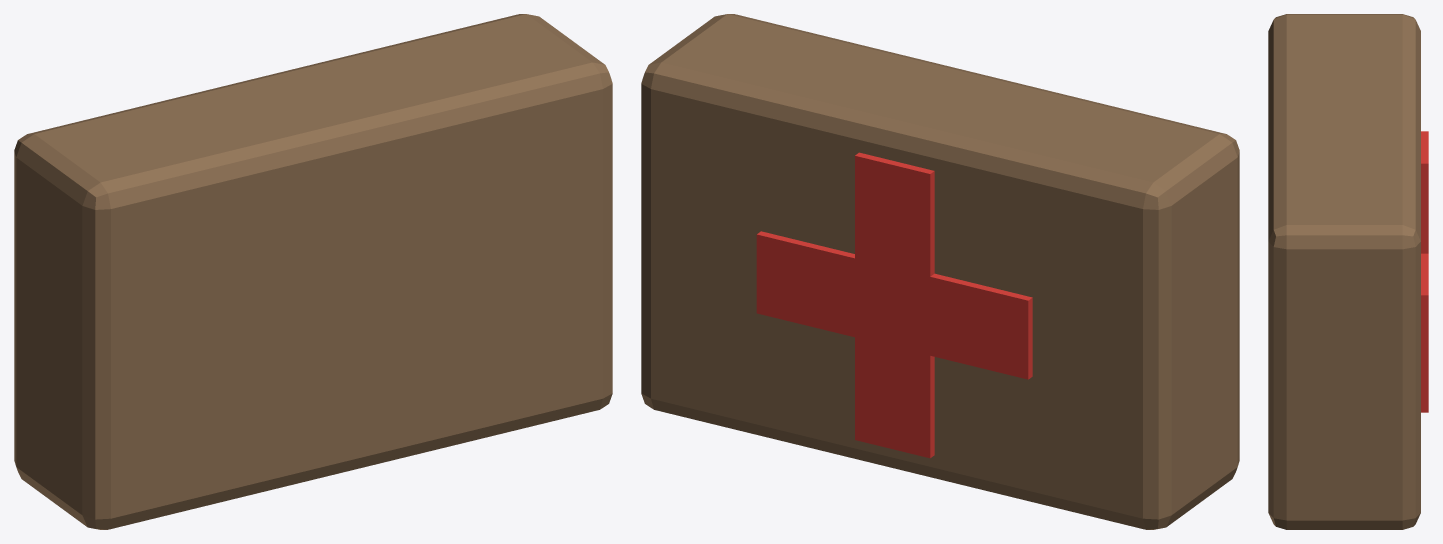
The model's file is SupplyPack_Small.fbx.
3 views of the same model, side by side, from view 1: azimuth 30°, elevation 25°; view 2: azimuth 150°, elevation 25°; view 3: azimuth 270°, elevation 25° (orthographic). The views are drawn at different scales.
Parts seen in each view (by area): view 1: SM_SupplyPack_Small_Export; view 2: SM_SupplyPack_Small_Export; view 3: SM_SupplyPack_Small_Export.
Part boxes in pixels (x1,y1,x2,y2): SM_SupplyPack_Small_Export: (14,14,612,529); SM_SupplyPack_Small_Export: (641,14,1239,529); SM_SupplyPack_Small_Export: (1268,14,1428,529).
Bounding box in the file's own units: 35 × 22 × 10.5.
